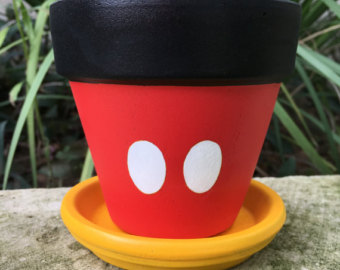flowerpot: (48, 1, 299, 270)
